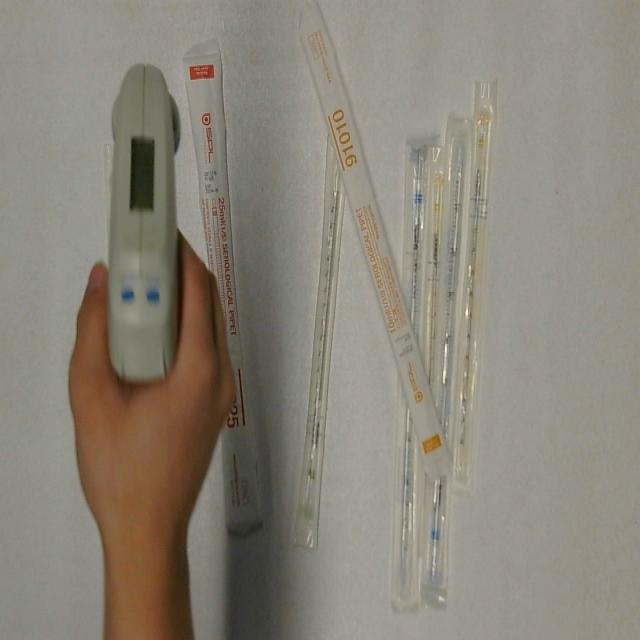Pipette Controller: (102, 57, 186, 381)
Serelogical Pipet 1 mL: (449, 79, 503, 494), (417, 144, 454, 396)
Serelogical Pipet 10 mL: (296, 0, 452, 478)
Serelogical Pipet 2 mL: (289, 123, 351, 551)
Serelogical Pipet 25 mL: (182, 35, 279, 534)
Serelogical Pipet 5 mL: (422, 115, 477, 607), (387, 126, 439, 613)
